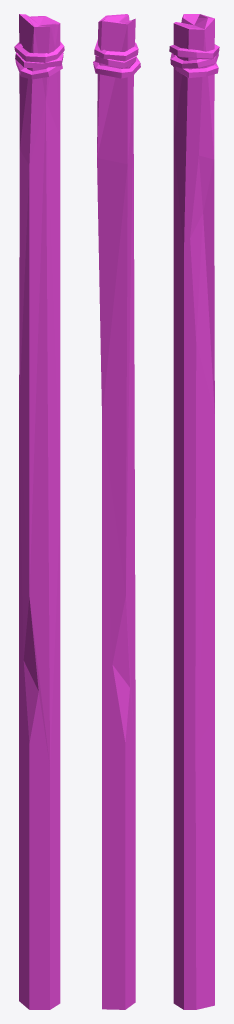
Rendered from SM_Pier_Rope_Pillar_Fantasy.fbx.
The picture shows the model from 3 angles, left to right: view 1: azimuth 90°, elevation 25°; view 2: azimuth 150°, elevation 25°; view 3: azimuth 270°, elevation 25°; orthographic projection.
Parts seen in each view (by area): view 1: SM_Pier_Rope_Pillar_Fantasy; view 2: SM_Pier_Rope_Pillar_Fantasy; view 3: SM_Pier_Rope_Pillar_Fantasy.
Part boxes in pixels (bbox=[...]): SM_Pier_Rope_Pillar_Fantasy: bbox=[14, 14, 64, 1009]; SM_Pier_Rope_Pillar_Fantasy: bbox=[93, 14, 140, 1009]; SM_Pier_Rope_Pillar_Fantasy: bbox=[169, 14, 219, 1009].
Bounding box in the file's own units: 0.2931 × 7.23 × 0.334.
